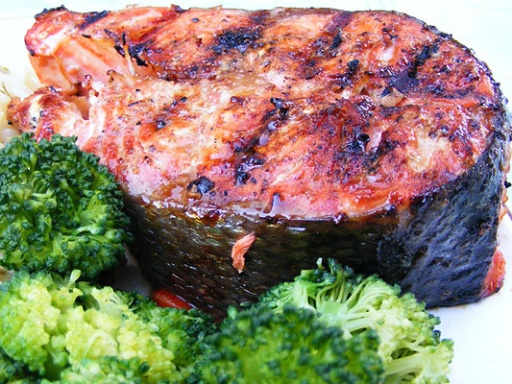background: (0, 2, 410, 230)
